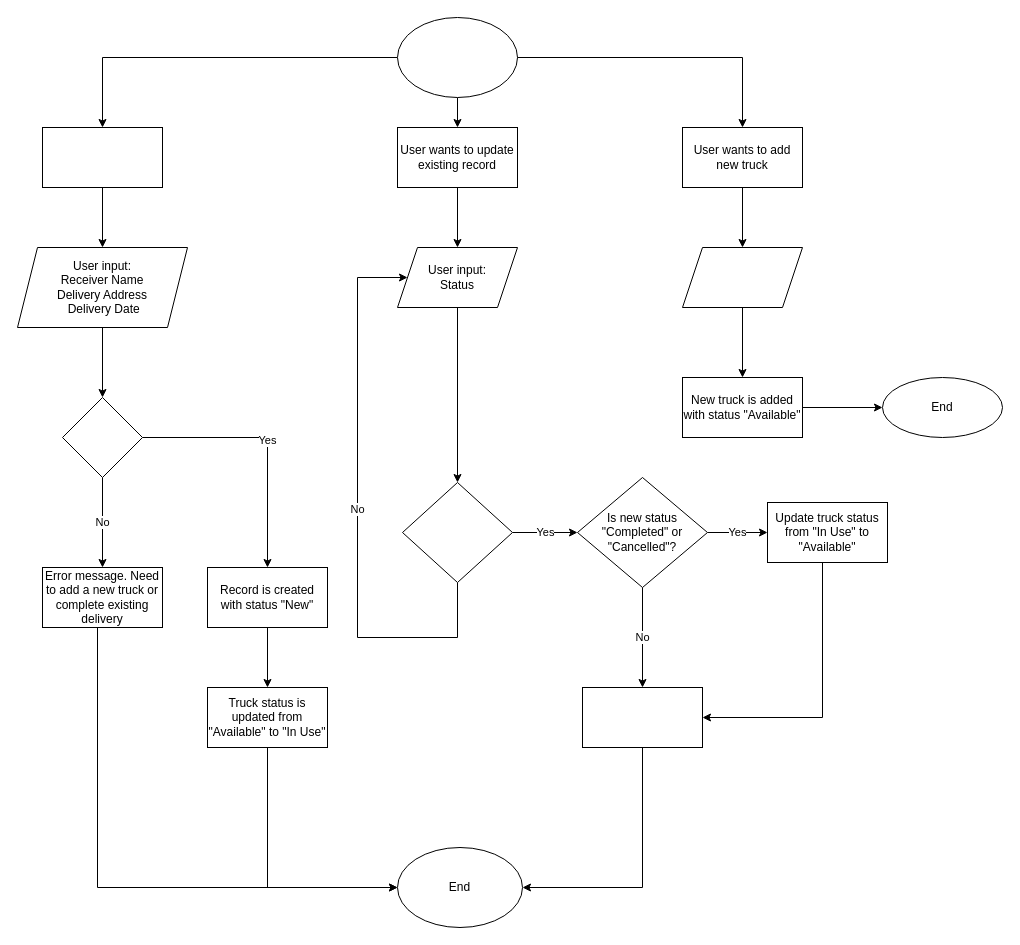
This 1020x945 diagram has some shape labels left out. Here are the shapes that lost their labels. From the top down, the box of each, then its label:
(396, 16, 518, 98): Start
(42, 126, 162, 188): User wants to create a new record
(682, 246, 802, 308): User input: Plate number
(62, 396, 142, 478): Is a truck available?
(402, 482, 512, 582): Is new status allowed?
(582, 686, 702, 748): Record status is updated
